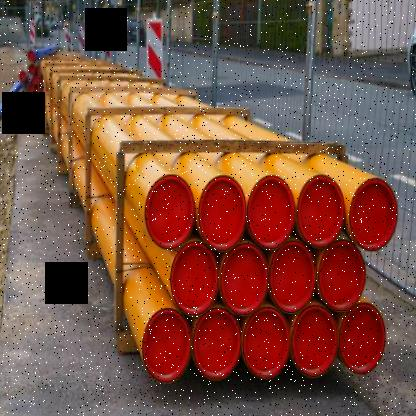pipe: (145, 174, 194, 250), (169, 240, 219, 314), (199, 174, 246, 252), (219, 242, 269, 315), (246, 176, 295, 250), (350, 176, 399, 250), (297, 175, 345, 248), (317, 239, 366, 310), (291, 304, 338, 378), (268, 240, 316, 312), (192, 308, 240, 380), (142, 310, 190, 382), (339, 303, 386, 375), (241, 306, 289, 376)
